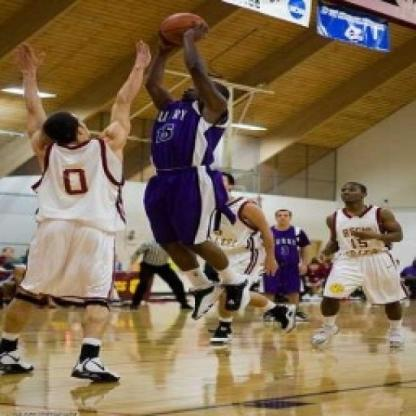basketball: (153, 7, 218, 51)
